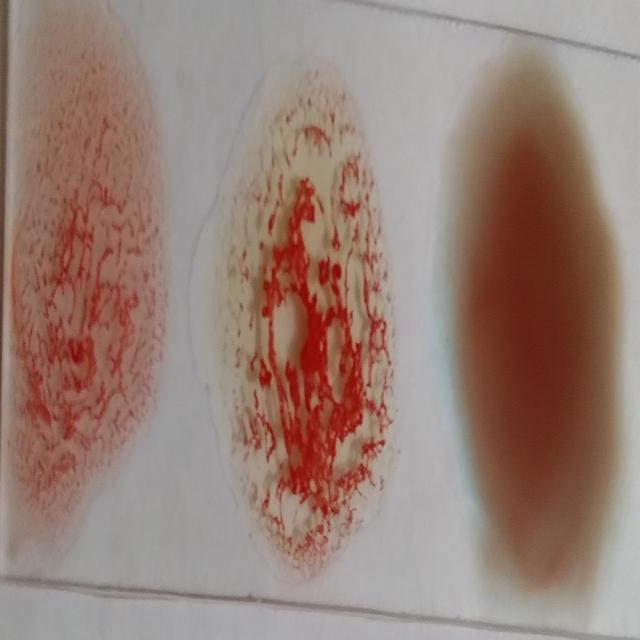B: (214, 45, 394, 579)
D: (12, 22, 162, 557)
